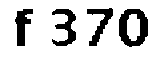0: (115, 8, 152, 48)
3: (48, 7, 79, 50)
7: (82, 5, 113, 52)
f: (12, 6, 36, 51)
